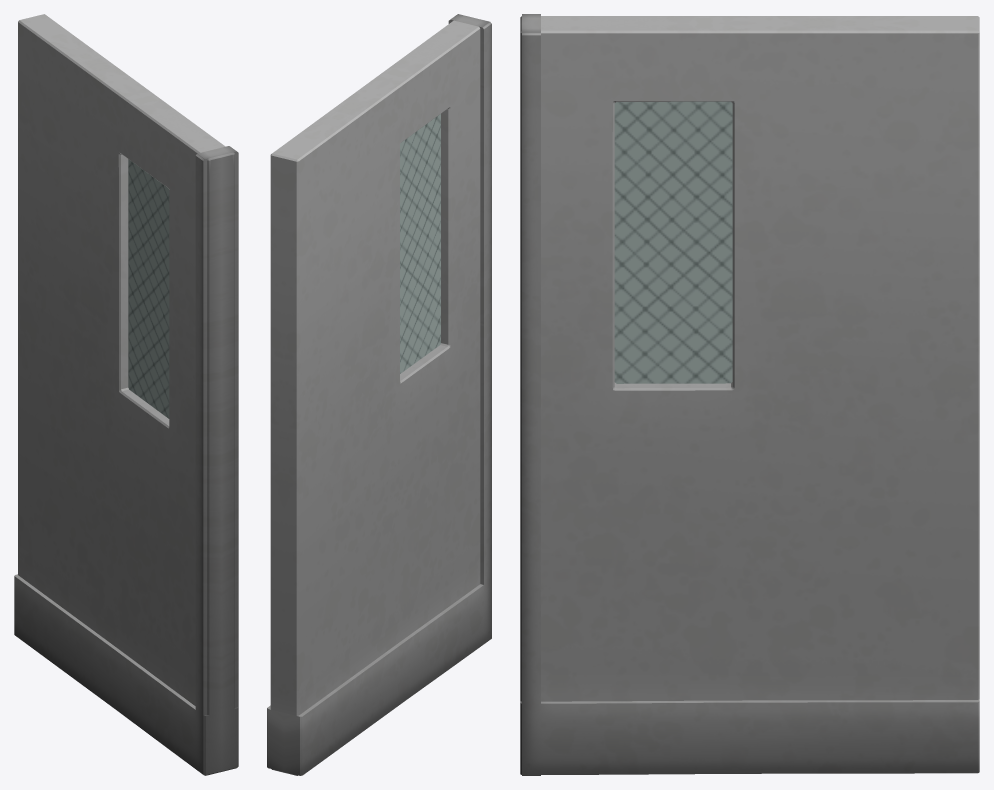
File: Digdig door.fbx
3 views of the same model, side by side, from view 1: azimuth 30°, elevation 25°; view 2: azimuth 150°, elevation 25°; view 3: azimuth 270°, elevation 25° (orthographic). The views are drawn at different scales.
Parts seen in each view (by area): view 1: polySurface54; view 2: polySurface54; view 3: polySurface54.
Part boxes in pixels (left/top/right/bottom): polySurface54: left=14, top=14, right=238, bottom=775; polySurface54: left=267, top=14, right=491, bottom=775; polySurface54: left=520, top=14, right=979, bottom=775.
Size of the model in its own units: 0.0409 by 0.6831 by 0.3828.
